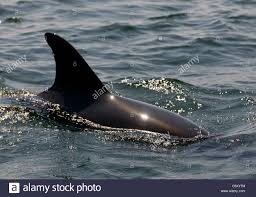fin: (1, 29, 219, 157)
